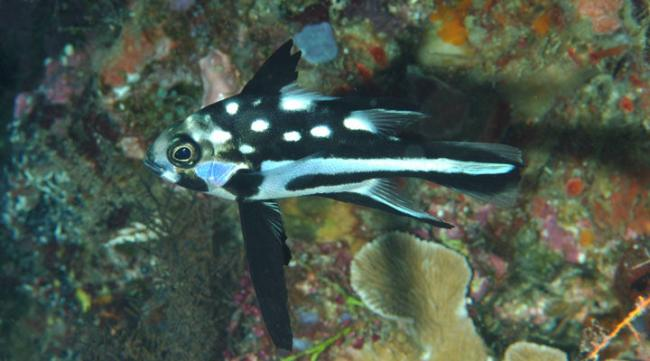fish: (144, 38, 522, 353)
